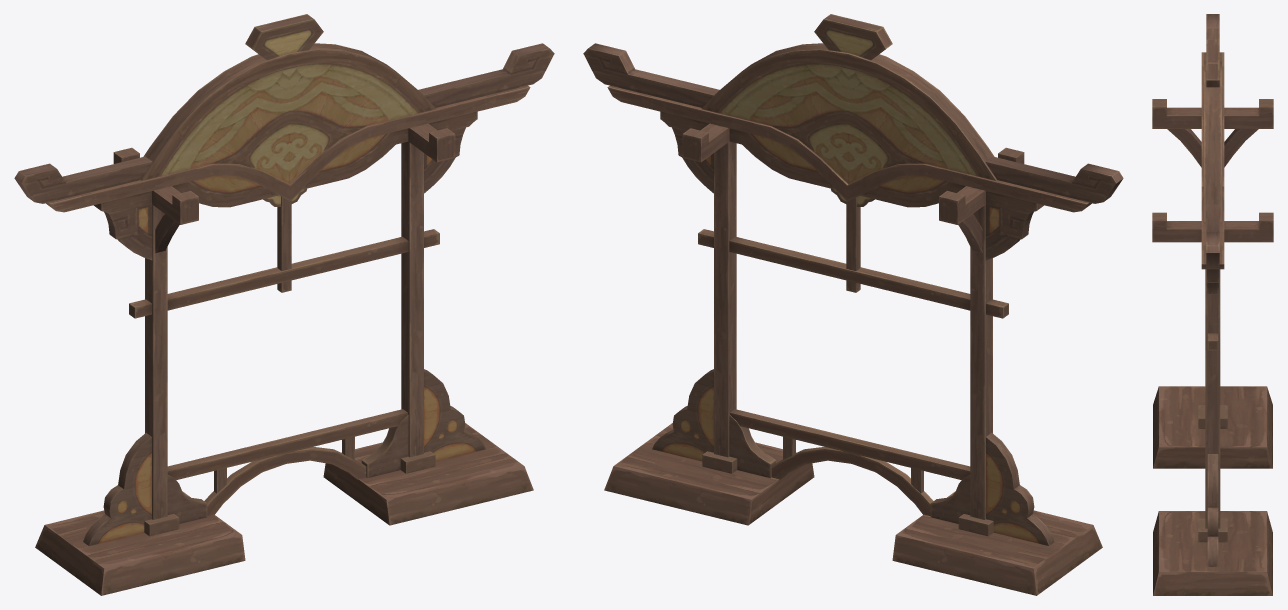
Rendered from Homeworld_Exterior_Ly_Lamp_Build_ScoringShelf_03_Vo.fbx.
The picture shows the model from 3 angles, left to right: view 1: azimuth 30°, elevation 25°; view 2: azimuth 150°, elevation 25°; view 3: azimuth 270°, elevation 25°; orthographic projection. The views are drawn at different scales.
Visible parts, largest first — view 1: Homeworld_Exterior_Ly_Lamp_Build_ScoringShelf_03_Vo; view 2: Homeworld_Exterior_Ly_Lamp_Build_ScoringShelf_03_Vo; view 3: Homeworld_Exterior_Ly_Lamp_Build_ScoringShelf_03_Vo.
Part boxes in pixels (x1=…): Homeworld_Exterior_Ly_Lamp_Build_ScoringShelf_03_Vo: x1=14, y1=14, x2=554, y2=595; Homeworld_Exterior_Ly_Lamp_Build_ScoringShelf_03_Vo: x1=583, y1=14, x2=1123, y2=595; Homeworld_Exterior_Ly_Lamp_Build_ScoringShelf_03_Vo: x1=1152, y1=14, x2=1273, y2=595.
Bounding box in the file's own units: 3.6 × 3.2 × 0.7832.
1 material, 1 textured.
